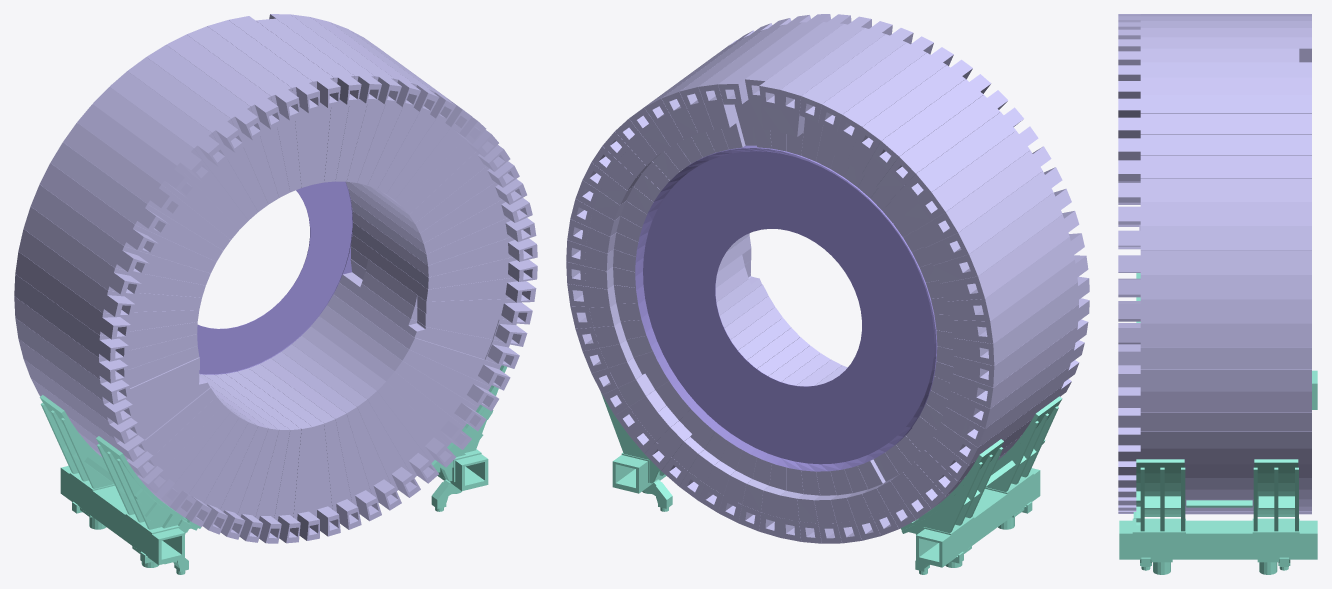
Rendered from Tile-End-Cap-SideA.glb.
3 views of the same model, side by side, from view 1: azimuth 30°, elevation 25°; view 2: azimuth 150°, elevation 25°; view 3: azimuth 270°, elevation 25° (orthographic).
Visible parts, largest first — view 1: null; view 2: null; view 3: null.
Boxes of the visible parts, x1,y1,x2,y2 form: null: [14, 14, 537, 574]; null: [566, 14, 1089, 574]; null: [1118, 14, 1317, 574].
Size of the model in its own units: 8.47 by 8.73 by 3.37.
